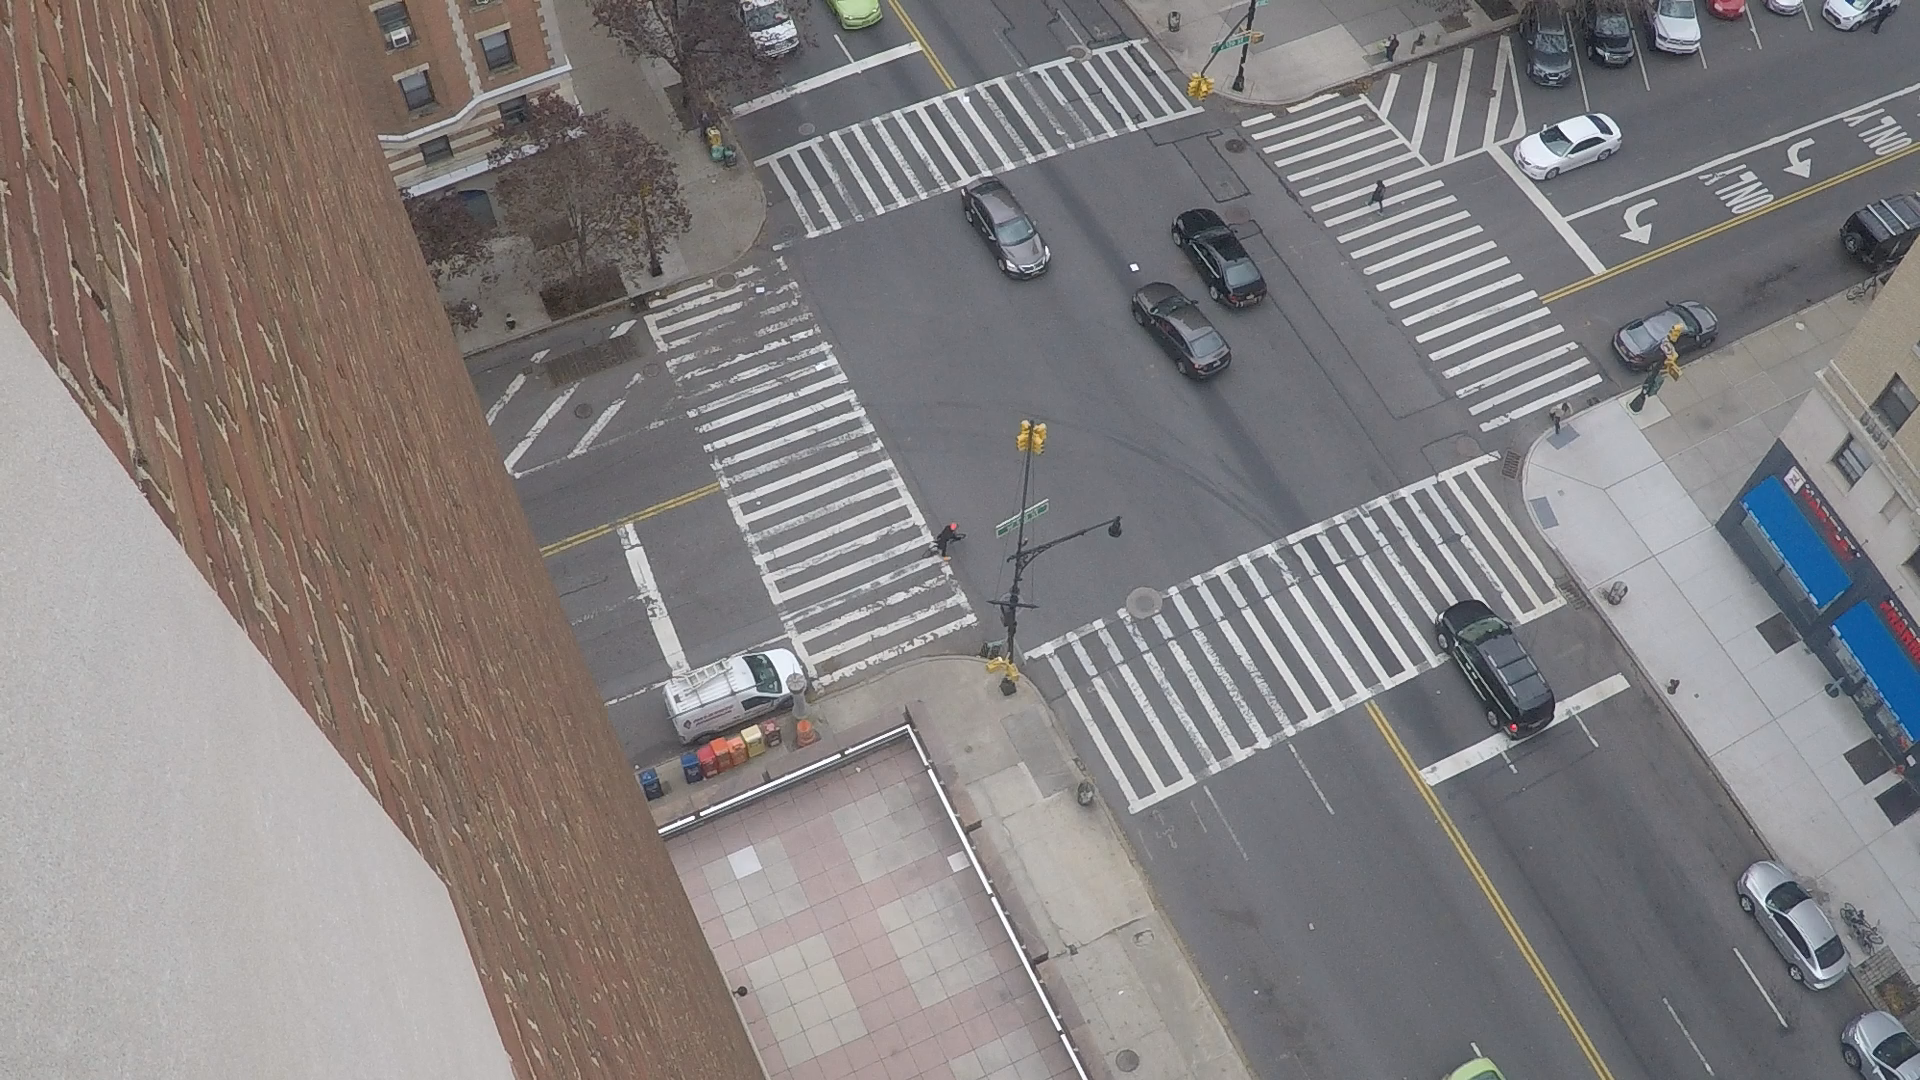Car: (723, 0, 752, 59), (824, 0, 844, 30), (1760, 0, 1764, 5), (1643, 0, 1644, 9), (1704, 0, 1705, 7)
